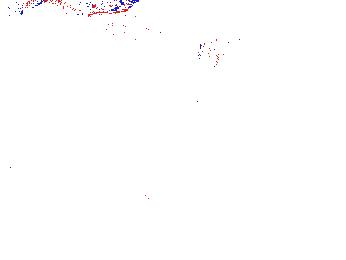X-ray fish: (188, 36, 249, 69)
glassfish: (86, 9, 199, 71)
redtail glassfish: (23, 1, 139, 15)
